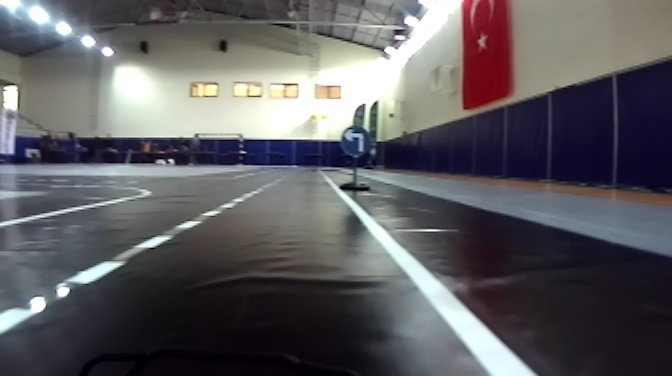sola_donus: (339, 122, 373, 160)
